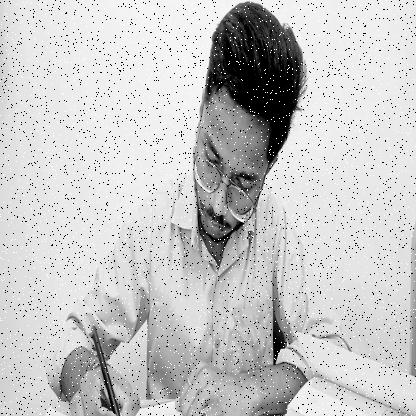Distracted: (194, 10, 304, 254)
